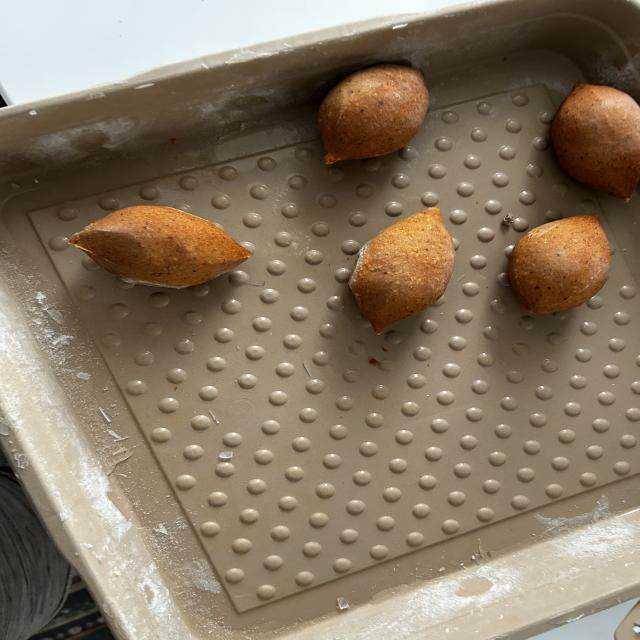kobi: (62, 208, 262, 290), (346, 204, 453, 336), (312, 60, 431, 165), (504, 217, 612, 315), (563, 74, 640, 200)
